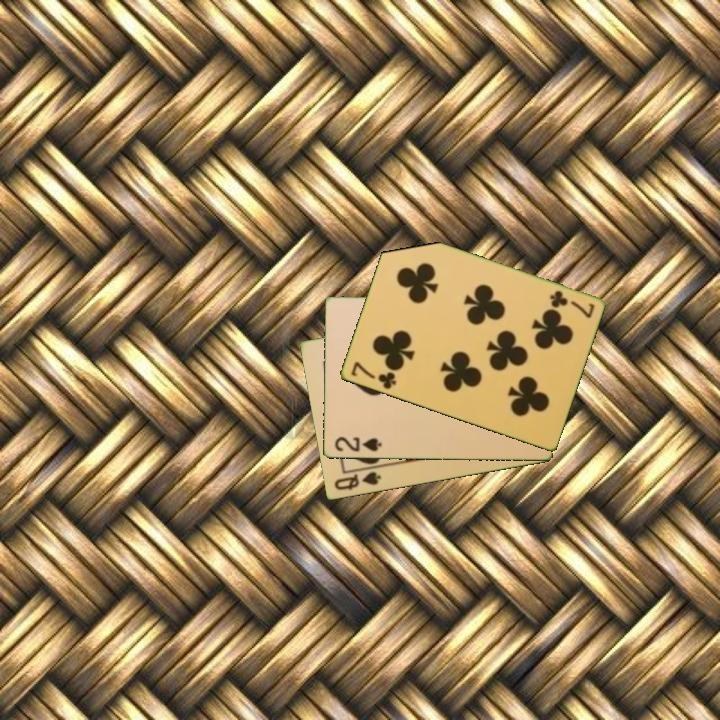2s: (331, 434, 384, 455)
7c: (347, 358, 399, 392), (546, 287, 597, 321)
Qs: (331, 468, 384, 494)
